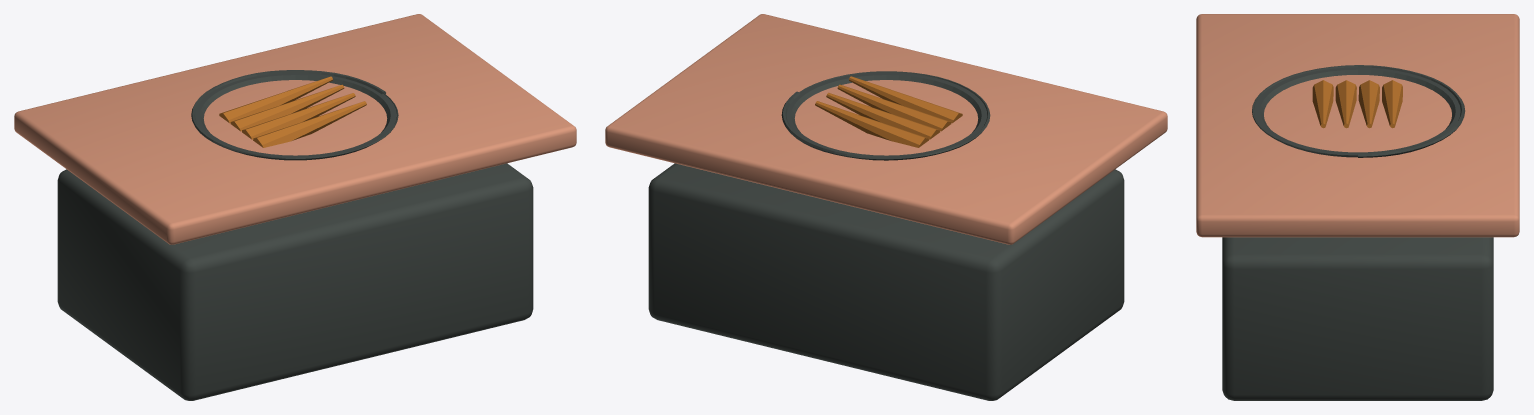
Rendered from patio-fire-table.glb.
The picture shows the model from 3 angles, left to right: view 1: azimuth 30°, elevation 25°; view 2: azimuth 150°, elevation 25°; view 3: azimuth 270°, elevation 25°; orthographic projection. The views are drawn at different scales.
Parts seen in each view (by area): view 1: patio-fire-table; view 2: patio-fire-table; view 3: patio-fire-table.
Boxes of the visible parts, x1,y1,x2,y2 form: patio-fire-table: [14, 14, 576, 400]; patio-fire-table: [605, 14, 1167, 400]; patio-fire-table: [1196, 14, 1519, 400].
Bounding box in the file's own units: 1.2 × 0.6 × 0.8.
Materials: 3 (1 with a texture image).
